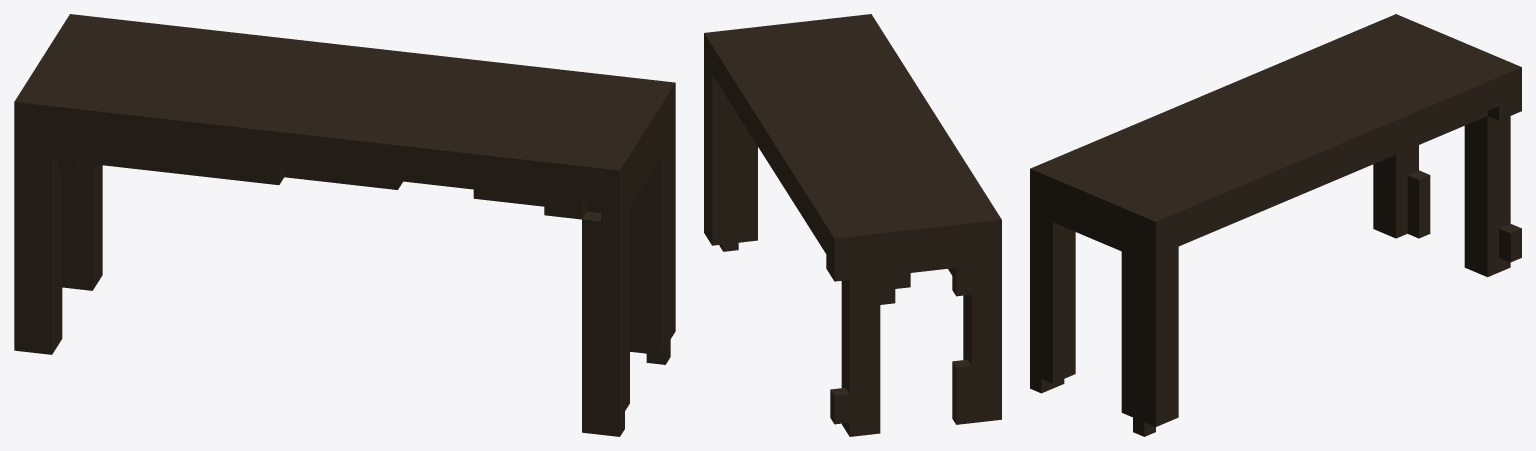
Rendered from Bench.glb.
The picture shows the model from 3 angles, left to right: view 1: azimuth 30°, elevation 25°; view 2: azimuth 150°, elevation 25°; view 3: azimuth 270°, elevation 25°; orthographic projection. The views are drawn at different scales.
Parts seen in each view (by area): view 1: prediction; view 2: prediction; view 3: prediction.
Part boxes in pixels (left/top/right/bottom): prediction: left=14, top=14, right=675, bottom=436; prediction: left=704, top=14, right=1001, bottom=436; prediction: left=1030, top=14, right=1521, bottom=436.
Size of the model in its own units: 12.16 by 6 by 12.16.
